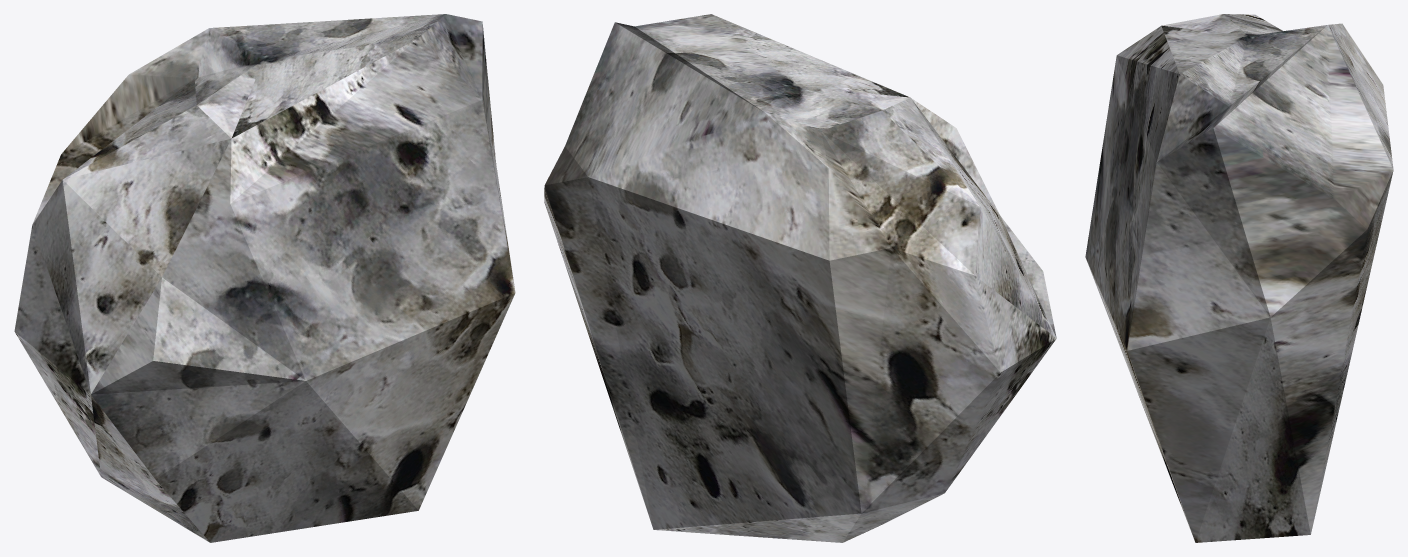
3 renders of one model, left to right at view 1: azimuth 30°, elevation 25°; view 2: azimuth 150°, elevation 25°; view 3: azimuth 270°, elevation 25°, orthographic. The views are drawn at different scales.
Visible parts, largest first — view 1: glbxz.com-st0006.1; view 2: glbxz.com-st0006.1; view 3: glbxz.com-st0006.1.
Boxes of the visible parts, x1,y1,x2,y2 form: glbxz.com-st0006.1: (14,14,515,542); glbxz.com-st0006.1: (544,14,1056,542); glbxz.com-st0006.1: (1085,14,1393,542).
Size of the model in its own units: 0.7509 by 0.724 by 0.4354.
Materials: 1 (1 with a texture image).
